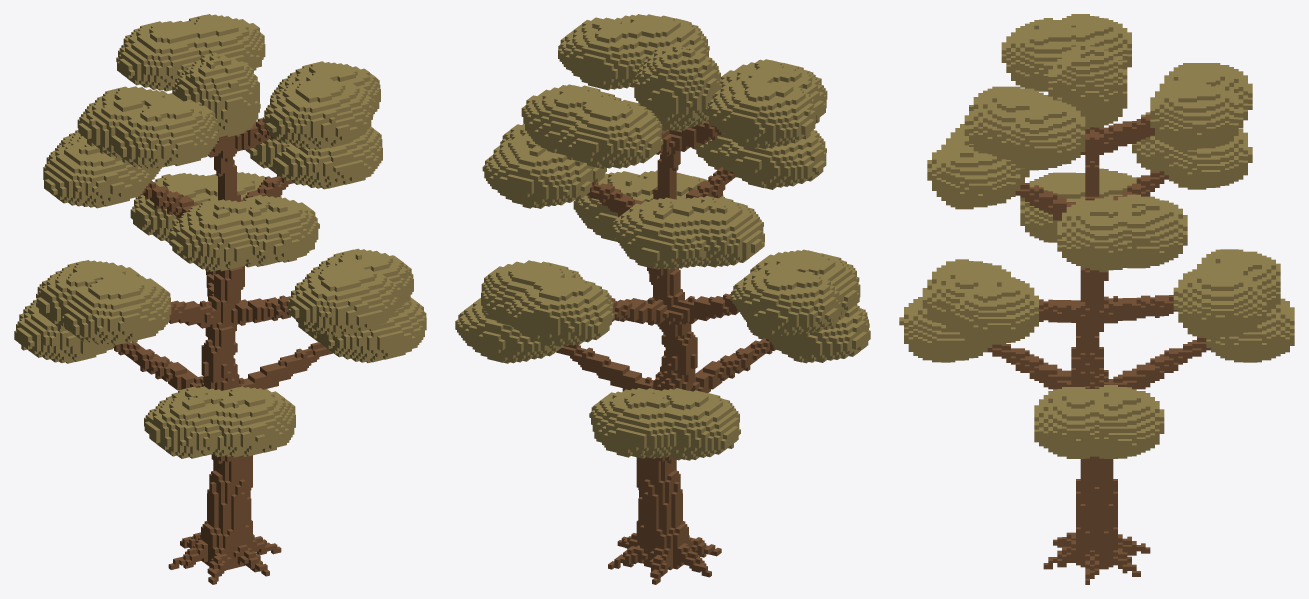
Rendered from visual-far.glb.
3 views of the same model, side by side, from view 1: azimuth 30°, elevation 25°; view 2: azimuth 150°, elevation 25°; view 3: azimuth 270°, elevation 25° (orthographic).
Parts seen in each view (by area): view 1: 既有乔木色阶与高度族; view 2: 既有乔木色阶与高度族; view 3: 既有乔木色阶与高度族.
Boxes of the visible parts, x1=… form: 既有乔木色阶与高度族: x1=14, y1=14, x2=426, y2=584; 既有乔木色阶与高度族: x1=455, y1=14, x2=870, y2=584; 既有乔木色阶与高度族: x1=899, y1=14, x2=1294, y2=584.
Size of the model in its own units: 18 by 24 by 17.
Materials: 3 (3 with a texture image).
